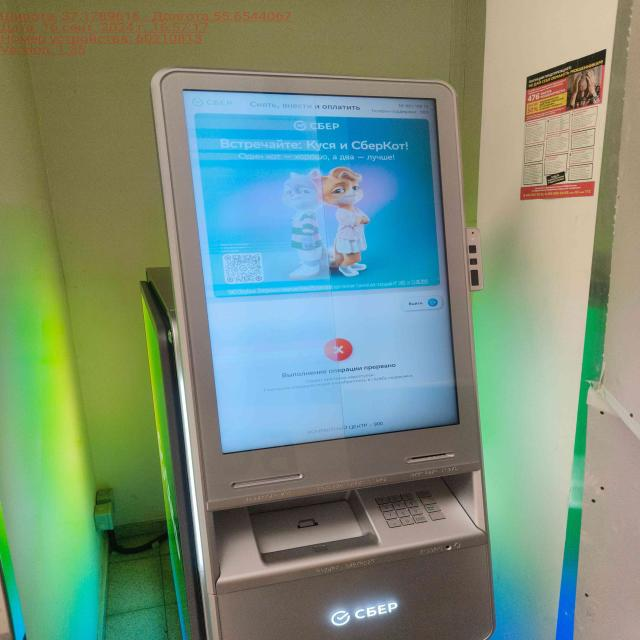bank: (131, 59, 496, 640)
